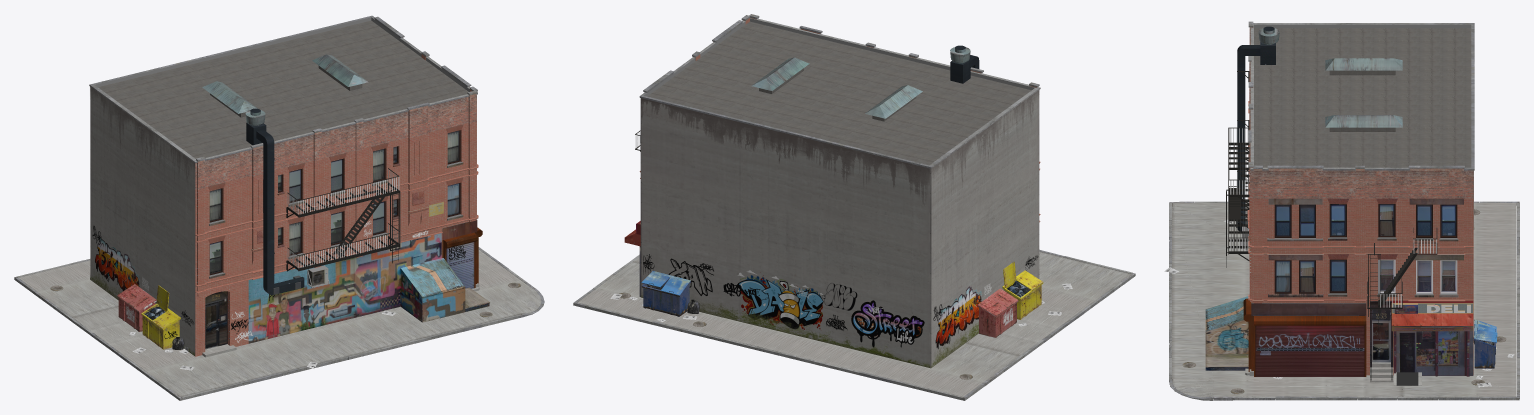
Rendered from ny_building.glb.
The picture shows the model from 3 angles, left to right: view 1: azimuth 30°, elevation 25°; view 2: azimuth 150°, elevation 25°; view 3: azimuth 270°, elevation 25°; orthographic projection. The views are drawn at different scales.
Visible parts, largest first — view 1: Mesh__2_0, Mesh_roof_0, Mesh (266), Mesh (265), Mesh (109), Mesh (260), Mesh_windows_0, Mesh (14), Mesh (270), Mesh_curb_0, Mesh (36), Mesh (63) (+13 smaller); view 2: Mesh (264), Mesh_roof_0, Mesh (265), Mesh (266), Mesh (63), Mesh (269), Mesh (270), Mesh_curb_0, Mesh (268), Mesh (284), Mesh (259), Mesh (282) (+3 smaller); view 3: Mesh_roof_0, Mesh (266), Mesh__2_0, Mesh (260), Mesh_windows_0, Mesh (101), Mesh (107), Mesh (270), Mesh_curb_0, Mesh (14), Mesh (102), Mesh (259) (+23 smaller).
Boxes of the visible parts, left/top/right/bottom form: Mesh__2_0: left=195, top=54, right=476, bottom=356; Mesh_roof_0: left=98, top=20, right=468, bottom=158; Mesh (266): left=18, top=249, right=541, bottom=396; Mesh (265): left=90, top=87, right=195, bottom=356; Mesh (109): left=248, top=233, right=441, bottom=343; Mesh (260): left=195, top=37, right=476, bottom=189; Mesh_windows_0: left=205, top=130, right=459, bottom=349; Mesh (14): left=400, top=258, right=465, bottom=322; Mesh (270): left=14, top=247, right=544, bottom=400; Mesh_curb_0: left=89, top=15, right=477, bottom=163; Mesh (36): left=256, top=129, right=304, bottom=295; Mesh (63): left=92, top=220, right=465, bottom=342; Mesh (264): left=640, top=98, right=931, bottom=368; Mesh_roof_0: left=647, top=21, right=1031, bottom=165; Mesh (265): left=931, top=90, right=1039, bottom=367; Mesh (266): left=577, top=251, right=1131, bottom=396; Mesh (63): left=643, top=254, right=1038, bottom=349; Mesh (269): left=641, top=90, right=1039, bottom=204; Mesh (270): left=573, top=249, right=1135, bottom=400; Mesh_curb_0: left=639, top=14, right=1040, bottom=168; Mesh (268): left=640, top=292, right=930, bottom=367; Mesh (284): left=641, top=271, right=690, bottom=316; Mesh (259): left=751, top=57, right=922, bottom=118; Mesh (282): left=977, top=288, right=1018, bottom=337; Mesh_roof_0: left=1254, top=28, right=1471, bottom=167; Mesh (266): left=1172, top=203, right=1516, bottom=398; Mesh__2_0: left=1248, top=27, right=1473, bottom=375; Mesh (260): left=1249, top=27, right=1473, bottom=198; Mesh_windows_0: left=1275, top=204, right=1456, bottom=292; Mesh (101): left=1254, top=325, right=1366, bottom=376; Mesh (107): left=1394, top=331, right=1473, bottom=376; Mesh (270): left=1169, top=201, right=1519, bottom=400; Mesh_curb_0: left=1248, top=21, right=1474, bottom=170; Mesh (14): left=1205, top=296, right=1248, bottom=353; Mesh (102): left=1391, top=301, right=1473, bottom=331; Mesh (259): left=1325, top=58, right=1402, bottom=127.
Bounding box in the file's own units: 2004 × 1141 × 1536.
Materials: 37 (23 with a texture image).
